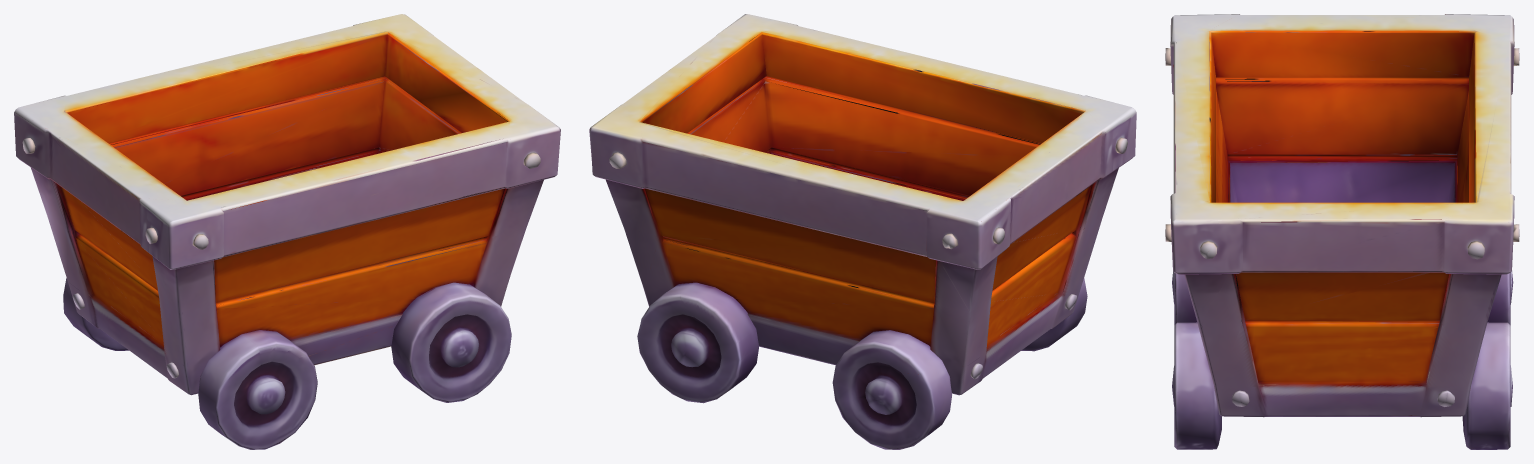
The model's file is Cart.glb.
3 renders of one model, left to right at view 1: azimuth 30°, elevation 25°; view 2: azimuth 150°, elevation 25°; view 3: azimuth 270°, elevation 25°, orthographic. The views are drawn at different scales.
Visible parts, largest first — view 1: geometry_0; view 2: geometry_0; view 3: geometry_0.
Boxes of the visible parts, x1,y1,x2,y2 form: geometry_0: (14,14,560,449); geometry_0: (589,14,1136,449); geometry_0: (1165,14,1519,449).
Bounding box in the file's own units: 0.9497 × 0.5771 × 0.6714.
1 material, 1 textured.
